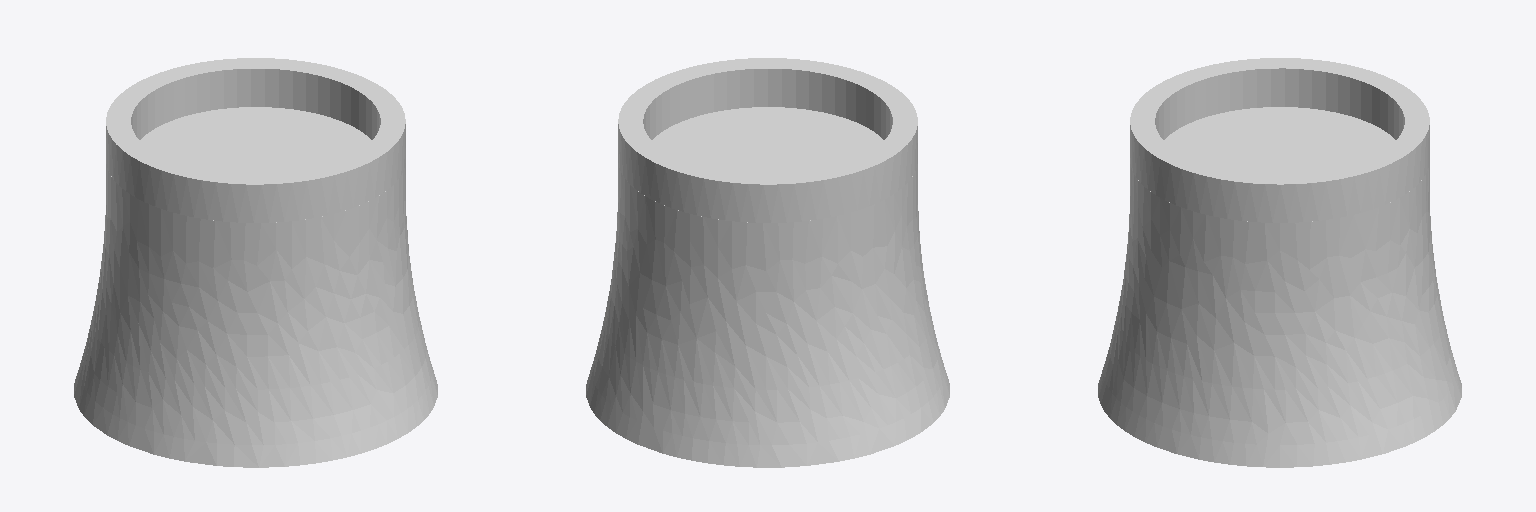
File: kuka-swiwel.obj
3 views of the same model, side by side, from view 1: azimuth 30°, elevation 25°; view 2: azimuth 150°, elevation 25°; view 3: azimuth 270°, elevation 25° (orthographic).
Parts seen in each view (by area): view 1: object; view 2: object; view 3: object.
Boxes of the visible parts, box(x1,y1,x2,y2) form: object: box(74, 58, 437, 467); object: box(586, 58, 949, 467); object: box(1098, 58, 1461, 467).
Size of the model in its own units: 146 by 119 by 146.